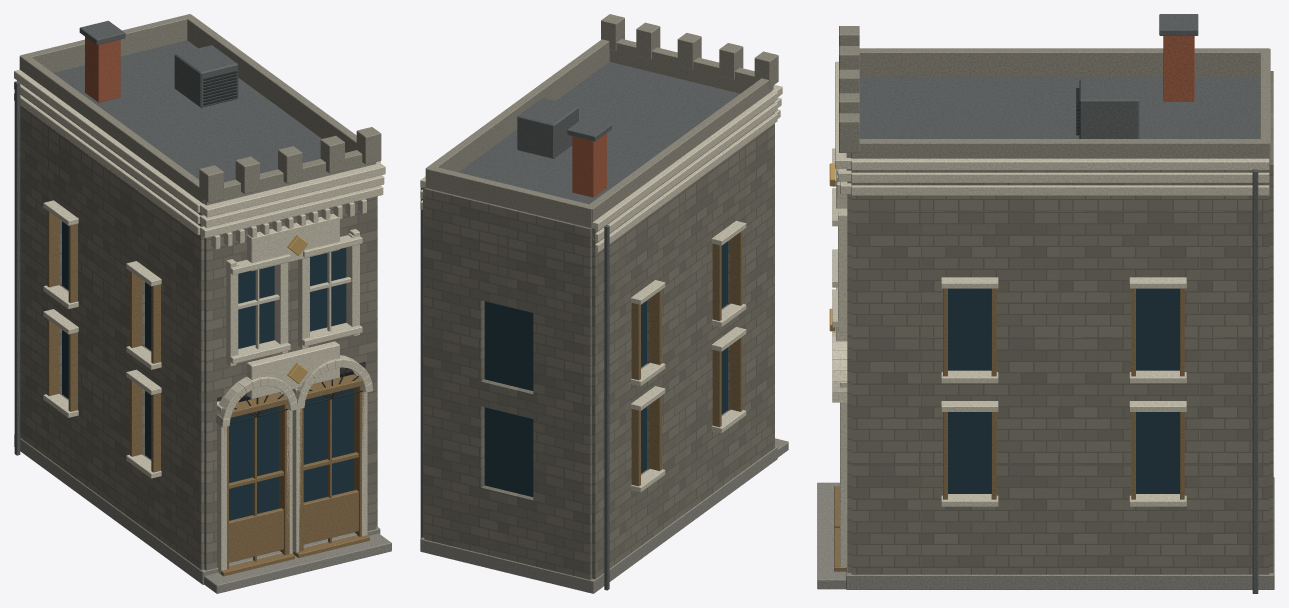
The model's file is CLSTGA21_lod1.glb.
3 renders of one model, left to right at view 1: azimuth 30°, elevation 25°; view 2: azimuth 150°, elevation 25°; view 3: azimuth 270°, elevation 25°, orthographic. The views are drawn at different scales.
Parts seen in each view (by area): view 1: CLSTGA21_LOD1; view 2: CLSTGA21_LOD1; view 3: CLSTGA21_LOD1.
Part boxes in pixels (bbox=[...]): CLSTGA21_LOD1: bbox=[14, 14, 391, 593]; CLSTGA21_LOD1: bbox=[420, 14, 788, 593]; CLSTGA21_LOD1: bbox=[817, 14, 1274, 593].
Bounding box in the file's own units: 3.71 × 7.85 × 6.57.
Materials: 11 (8 with a texture image).
